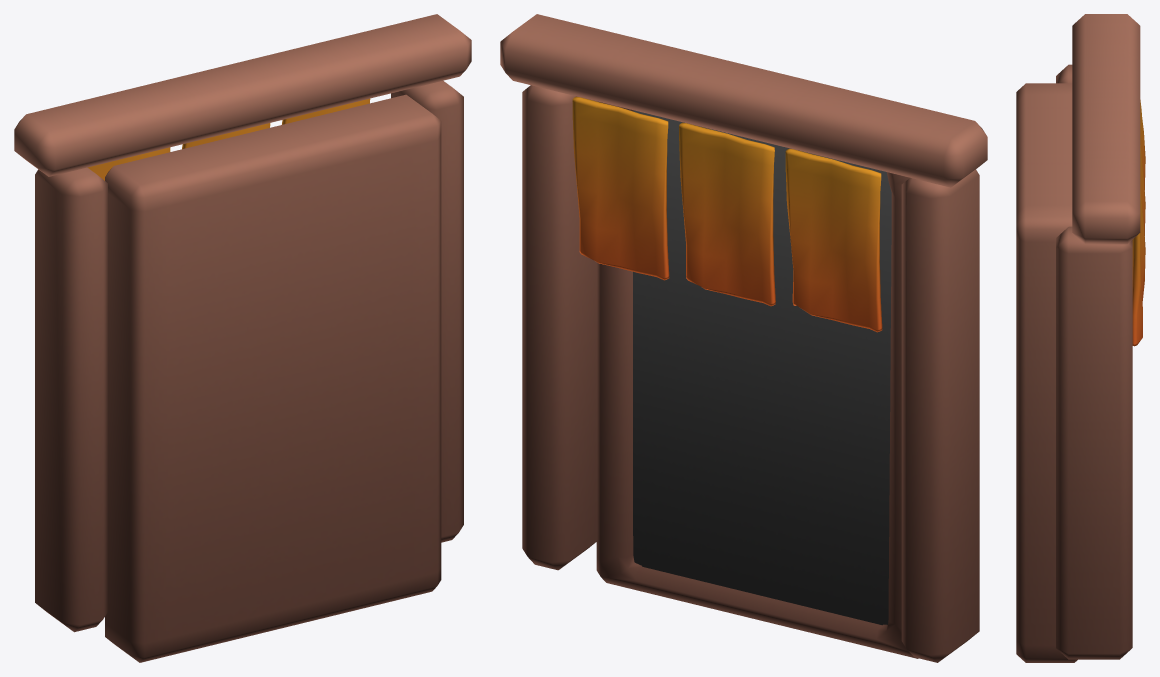
The model's file is SM_Wood_Door_05.fbx.
3 renders of one model, left to right at view 1: azimuth 30°, elevation 25°; view 2: azimuth 150°, elevation 25°; view 3: azimuth 270°, elevation 25°, orthographic. The views are drawn at different scales.
Visible parts, largest first — view 1: SM_Wood_Door_05; view 2: SM_Wood_Door_05; view 3: SM_Wood_Door_05.
Boxes of the visible parts, box(x1,y1,x2,y2) form: SM_Wood_Door_05: box(14, 14, 471, 662); SM_Wood_Door_05: box(500, 14, 987, 662); SM_Wood_Door_05: box(1016, 14, 1145, 662).
Size of the model in its own units: 0.5318 by 0.6118 by 0.1467.
